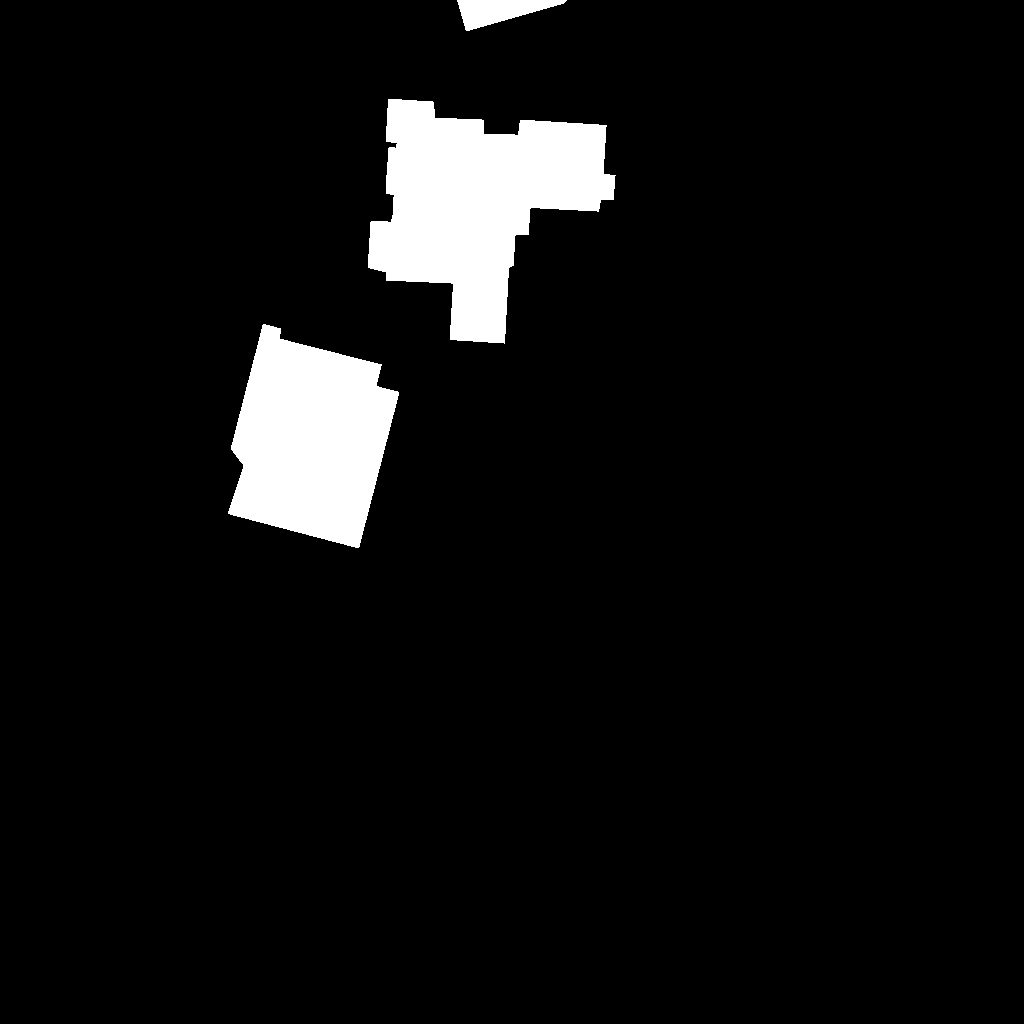building: (368, 99, 616, 344), (228, 324, 400, 549), (457, 0, 568, 32)
